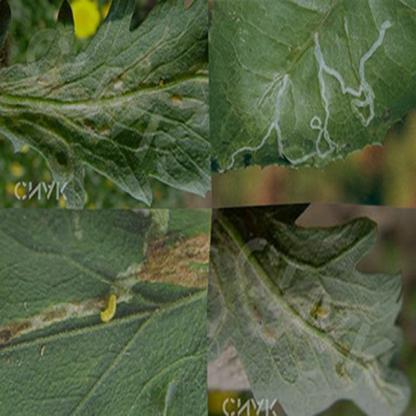whorl-maggot: (98, 290, 119, 326), (169, 91, 184, 109)
